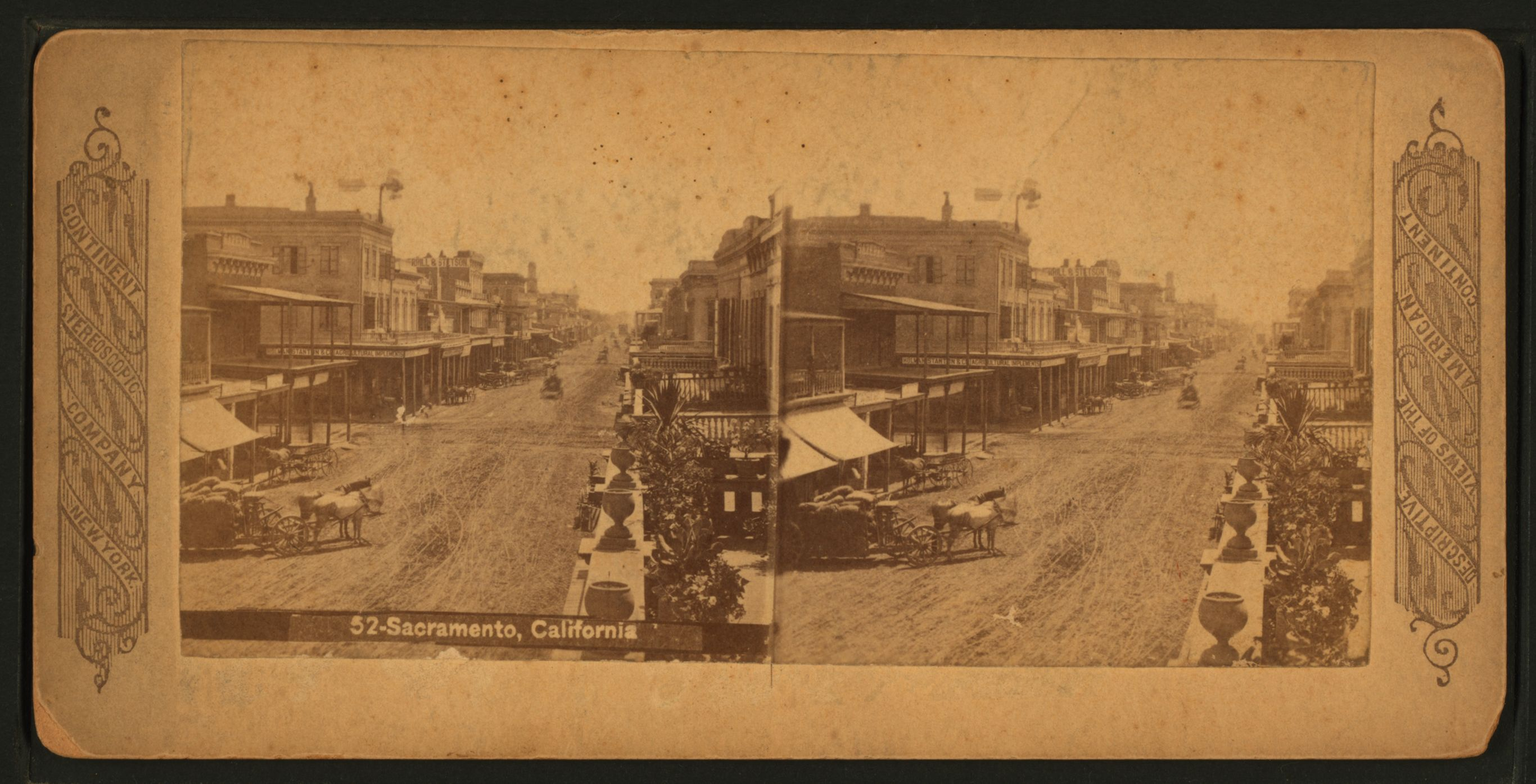half_image: (180, 42, 789, 662), (774, 52, 1375, 667)
